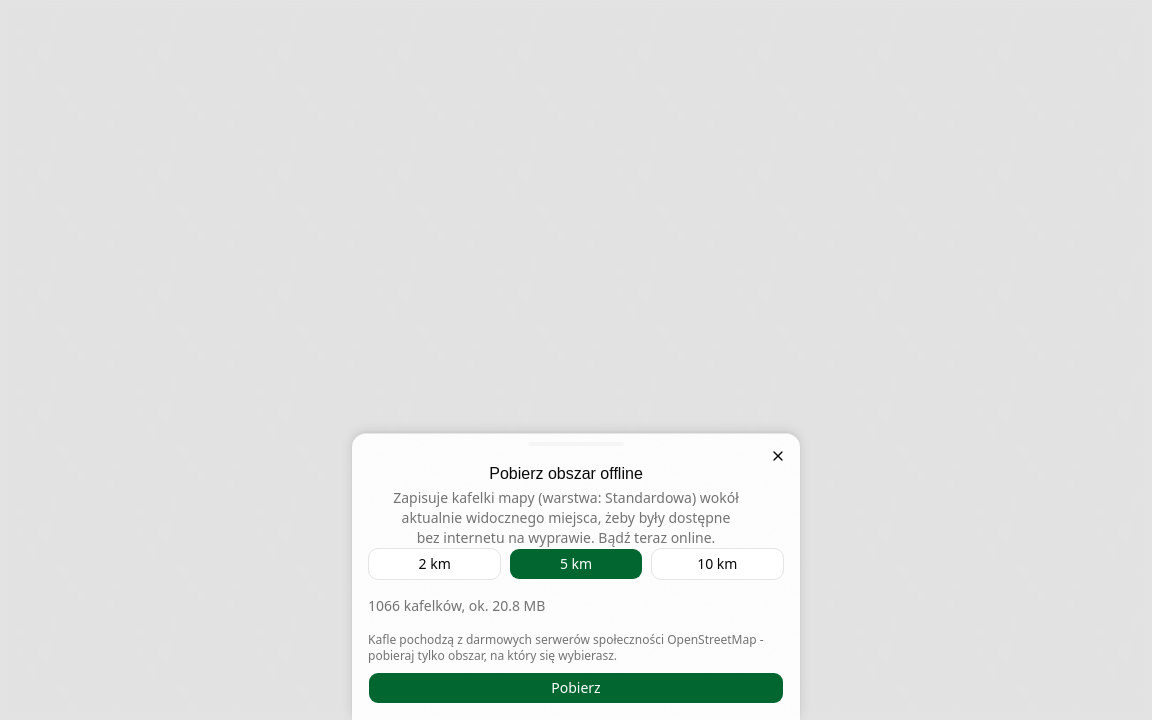
OfflineAreaDownload › pokazuje błąd, gdy pobieranie rzuci wyjątek
Click the button "Pobierz".
click(576, 688)  # box [368,672,784,704]
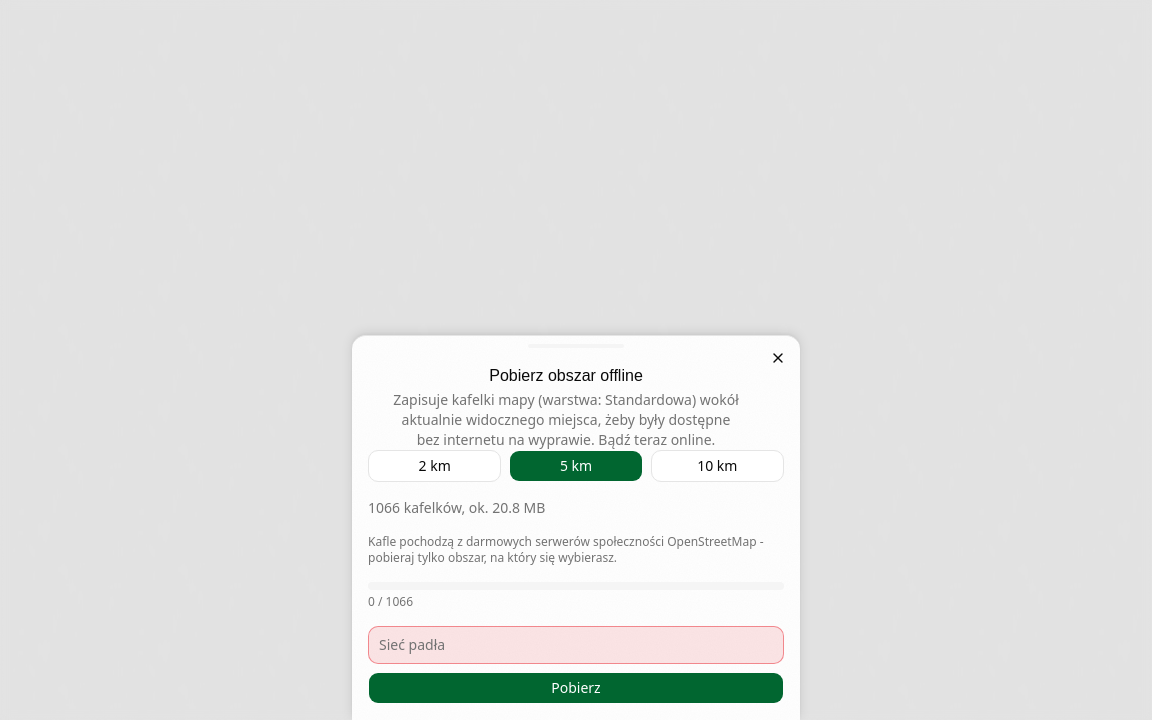
Expected: the text "Sieć padła" is shown, [379,635,445,654]
